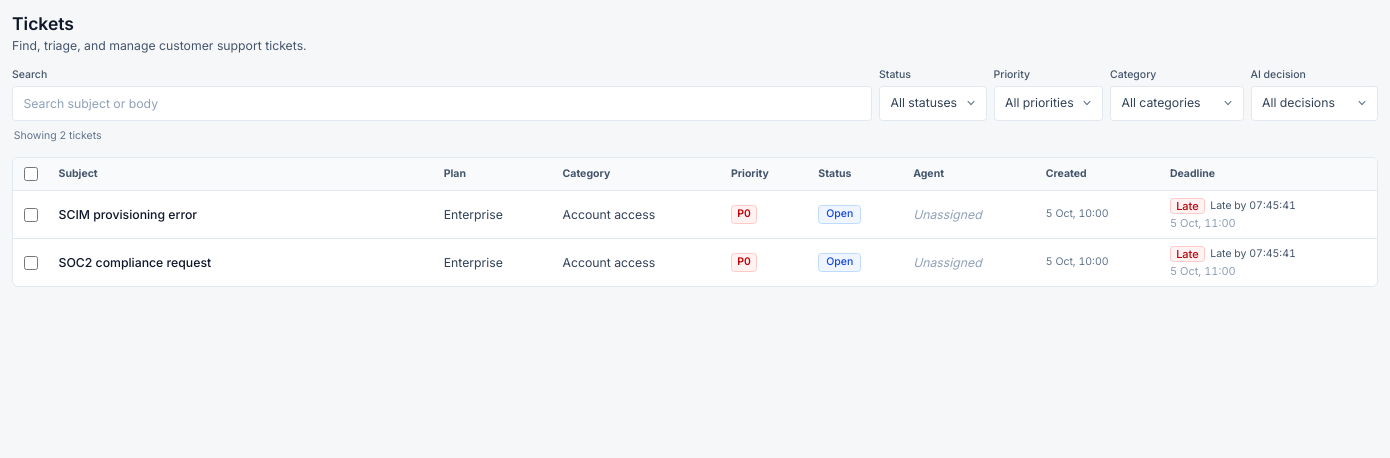
Test: Bulk Selection Identity and Reordering Safety › Requirement 5, 6 & 7: selected ticket becoming closed on server produces closed failure for THAT SAME ID while others succeed
What coordinates should you click on to do the following:
click the checkbox named "Select T-1001"
I would click on:
 (30, 215)
Its box is [24,208,38,222].
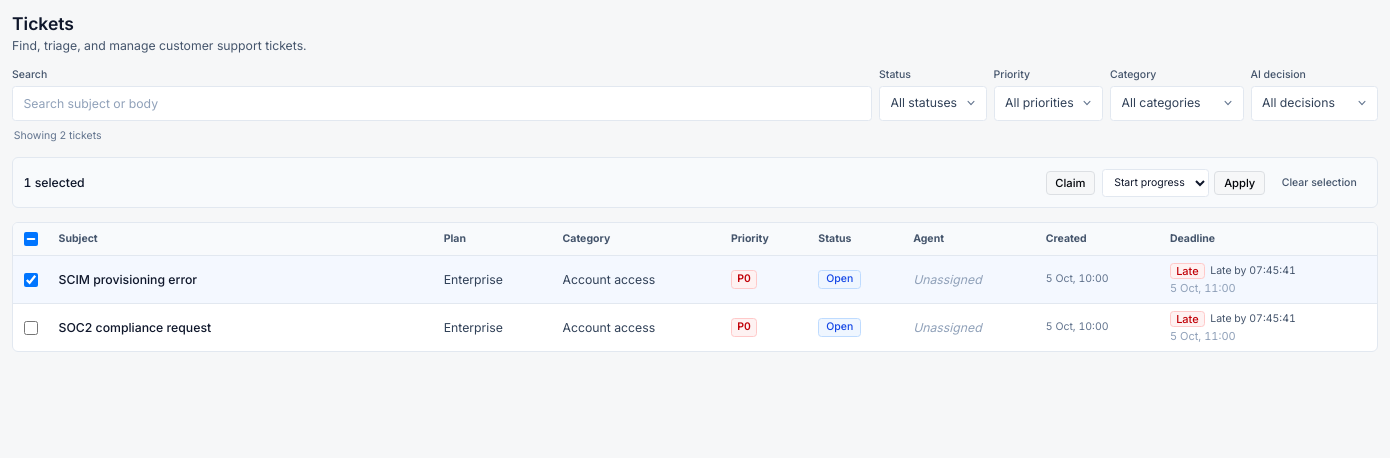
What coordinates should you click on to do the following:
click the checkbox named "Select T-1002"
I would click on:
 (30, 328)
Its box is [24,321,38,335].
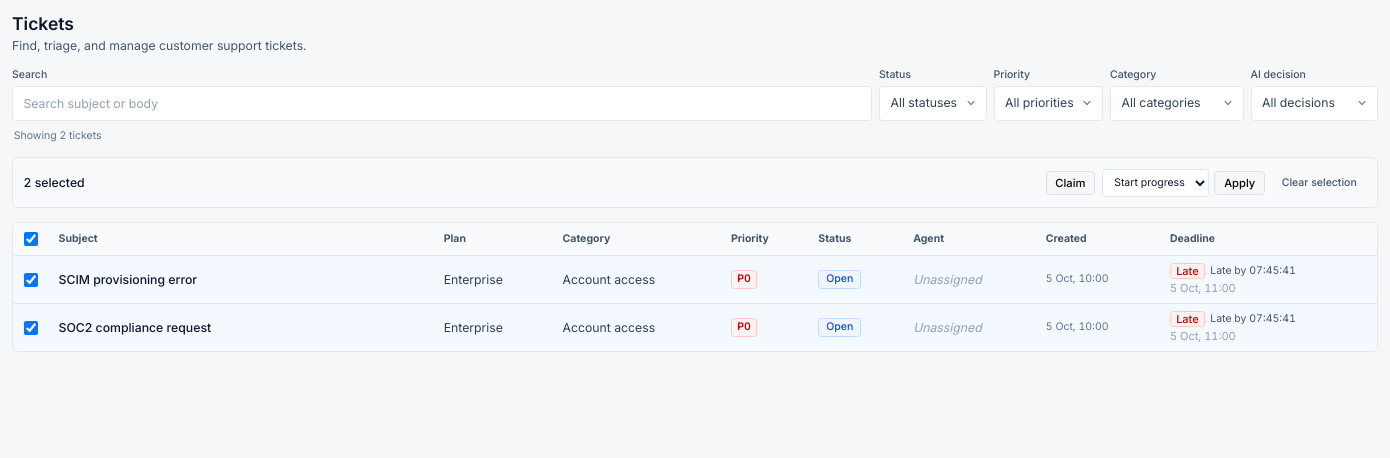
What coordinates should you click on to do the following:
click the button "Claim"
I would click on:
 (1070, 183)
Its box is [1046,170,1095,195].
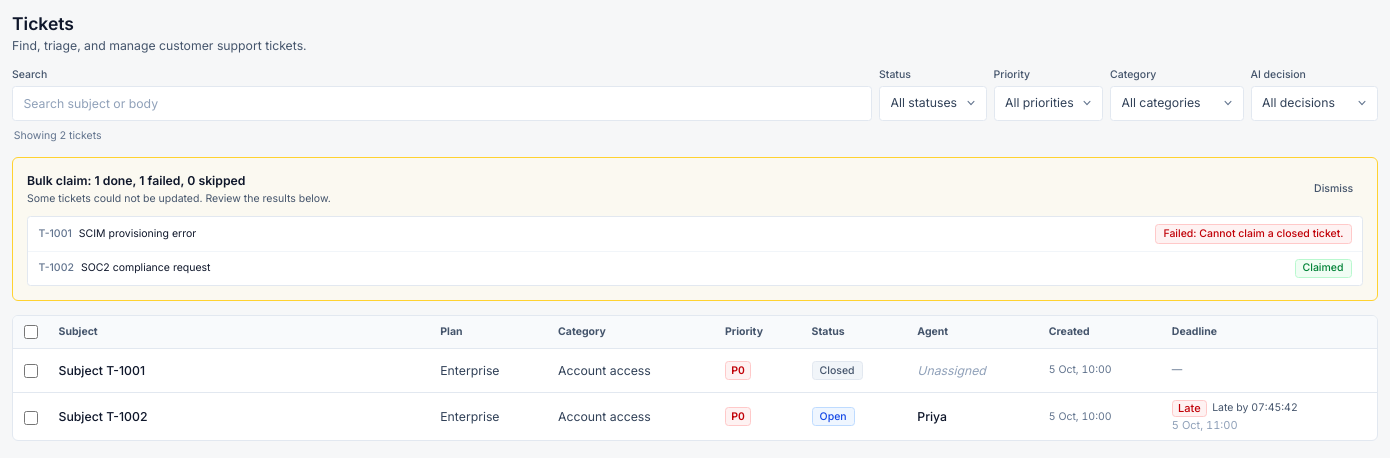
Check: the heading "Bulk claim: 1 done, 1 failed, 0 skipped" is shown, box [27,173,246,188]
Check: the list item that starts with "T-1001" is shown, box [28,217,1362,252]
Check: the text "Failed: Cannot claim a closed ticket." is shown, box [1155,224,1352,244]
